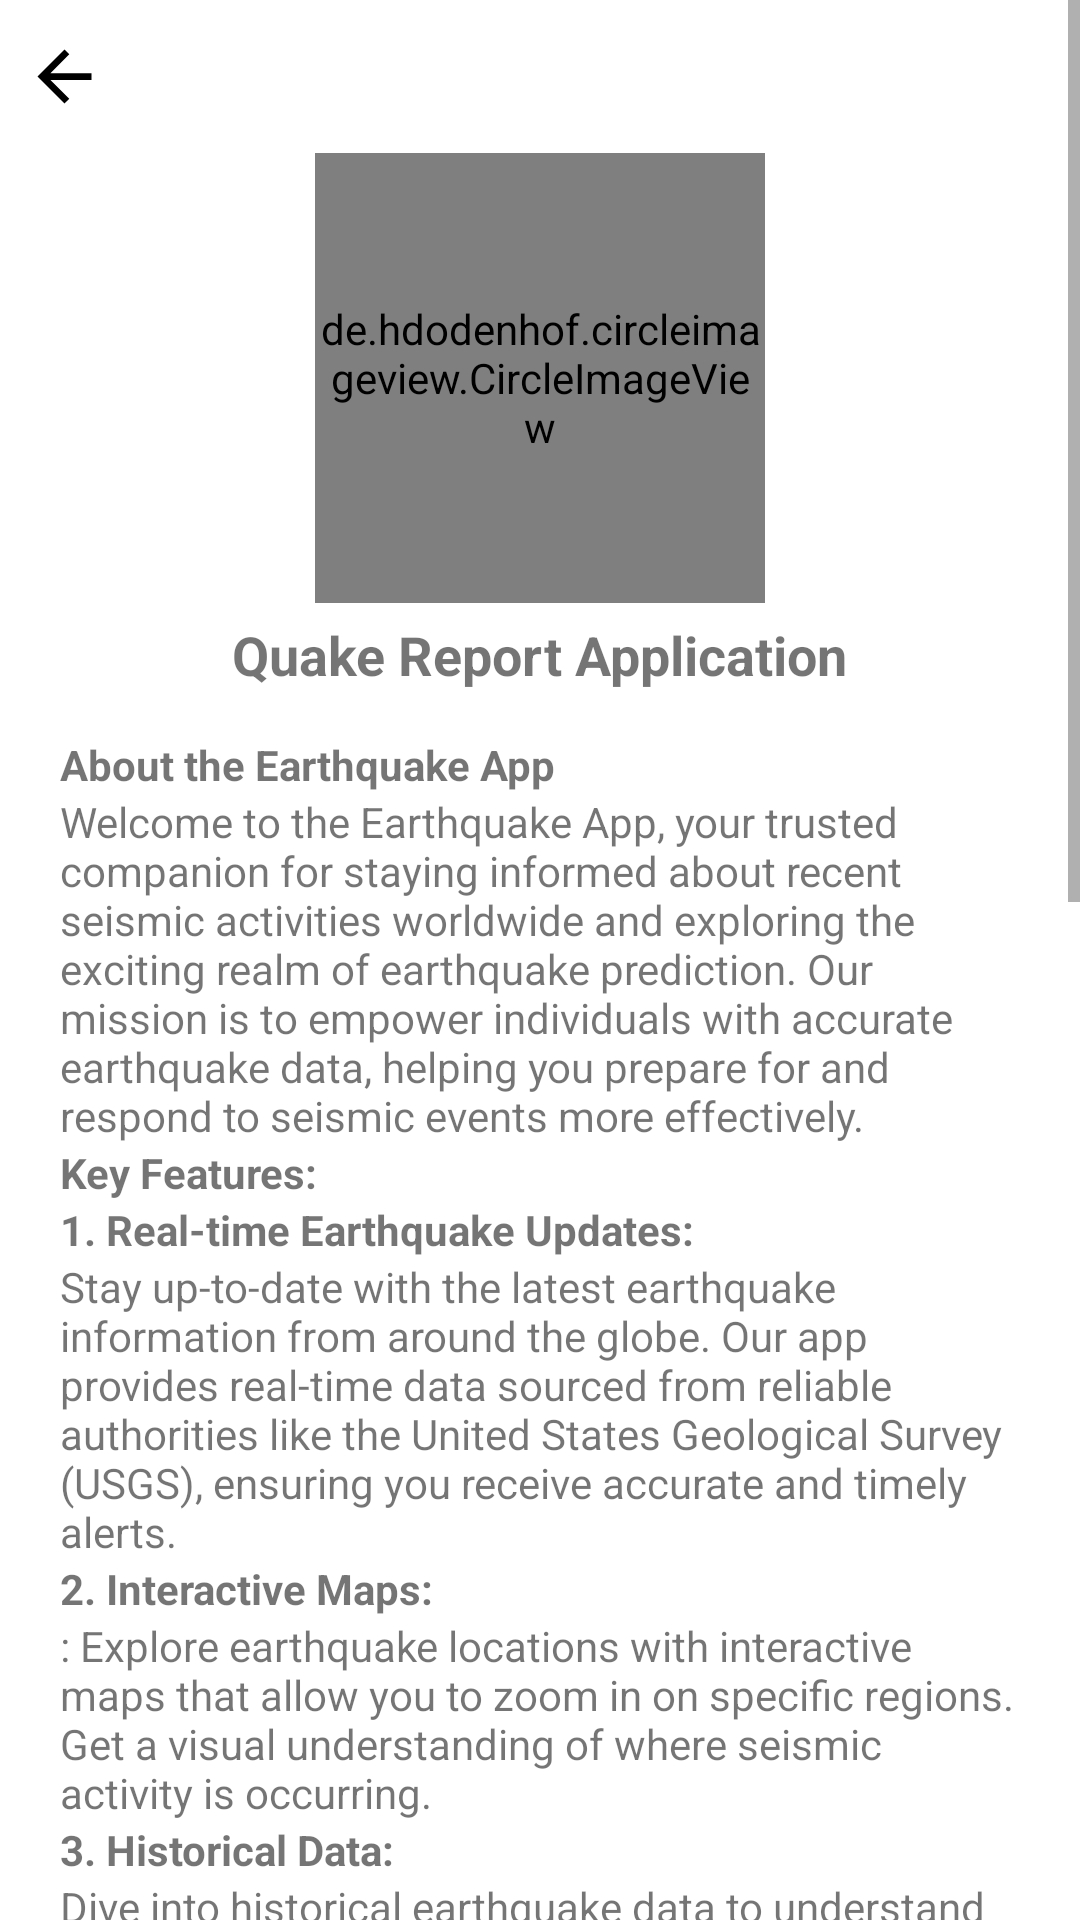

Locate icon controls on the screen. Image size 1080w x 1920h, boxes as bbox(x1, y1, x2, y2).
Back: bbox(37, 49, 92, 104)
